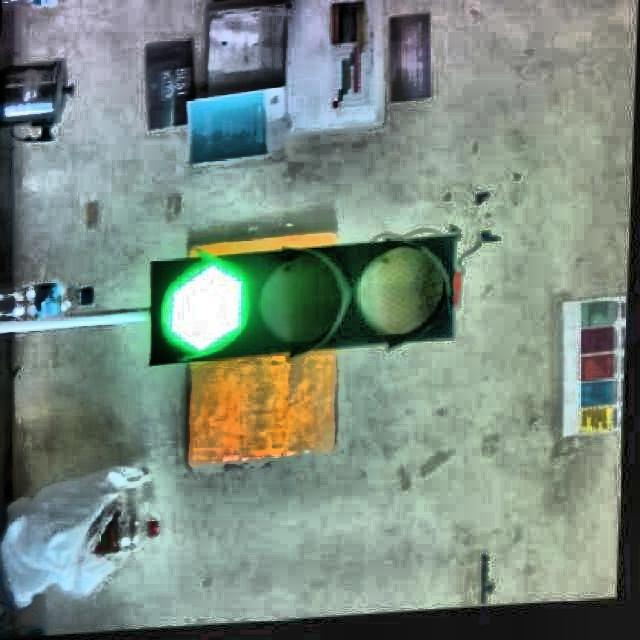green: (148, 224, 458, 361)
